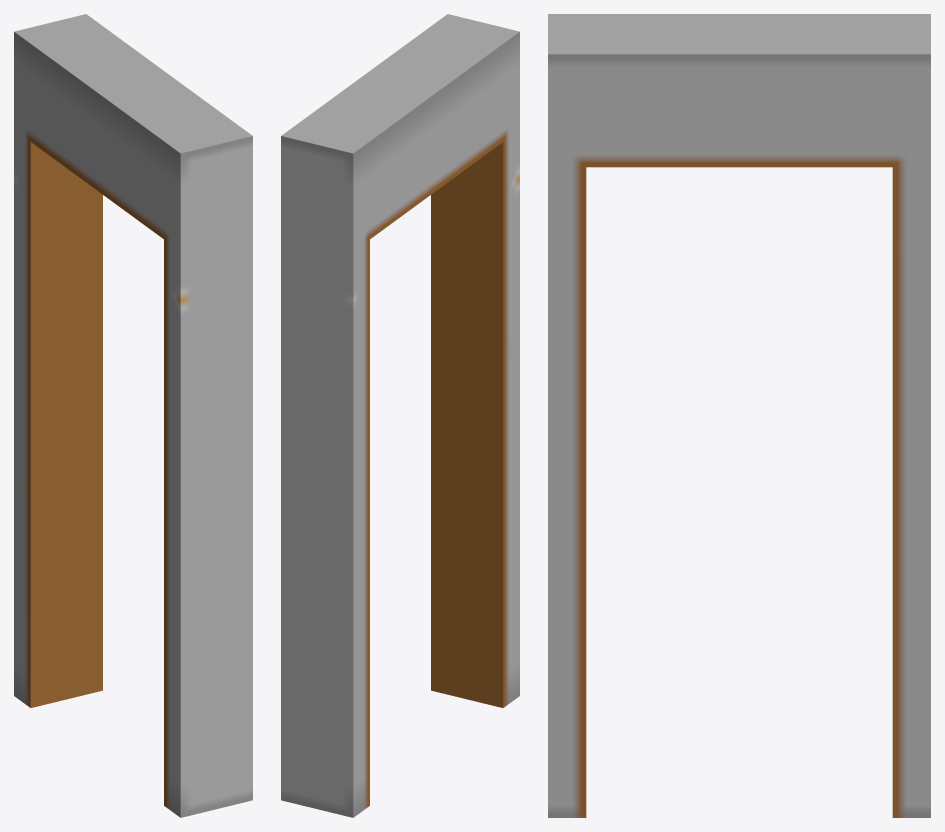
Rendered from doorframe_house.fbx.
3 views of the same model, side by side, from view 1: azimuth 30°, elevation 25°; view 2: azimuth 150°, elevation 25°; view 3: azimuth 270°, elevation 25° (orthographic). The views are drawn at different scales.
Parts seen in each view (by area): view 1: doorframe_house; view 2: doorframe_house; view 3: doorframe_house.
Boxes of the visible parts, bbox=[...] form: doorframe_house: bbox=[14, 14, 252, 817]; doorframe_house: bbox=[281, 14, 519, 817]; doorframe_house: bbox=[548, 14, 930, 817].
Bounding box in the file's own units: 10 × 88 × 40.
